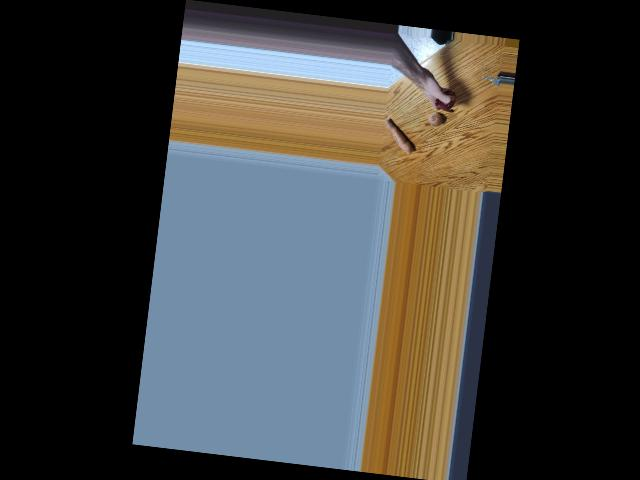onion: (433, 89, 454, 112)
